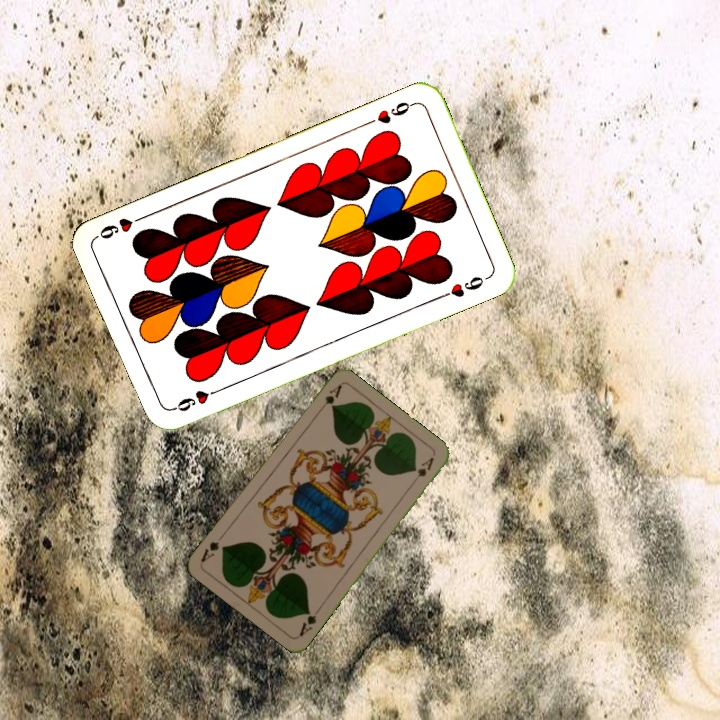GA: (295, 603, 323, 639), (315, 381, 344, 415)
H9: (167, 384, 224, 415), (362, 97, 418, 128)
